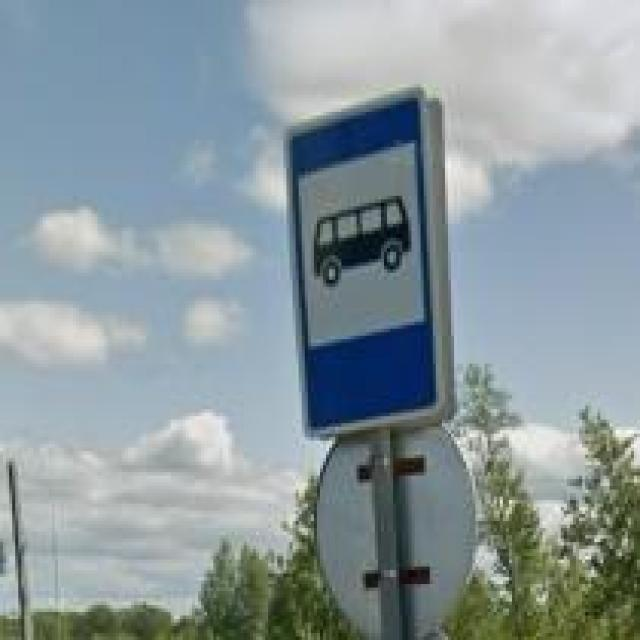bus_stop: (283, 84, 442, 437)
